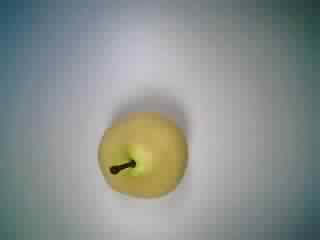pear: (88, 105, 198, 211)
